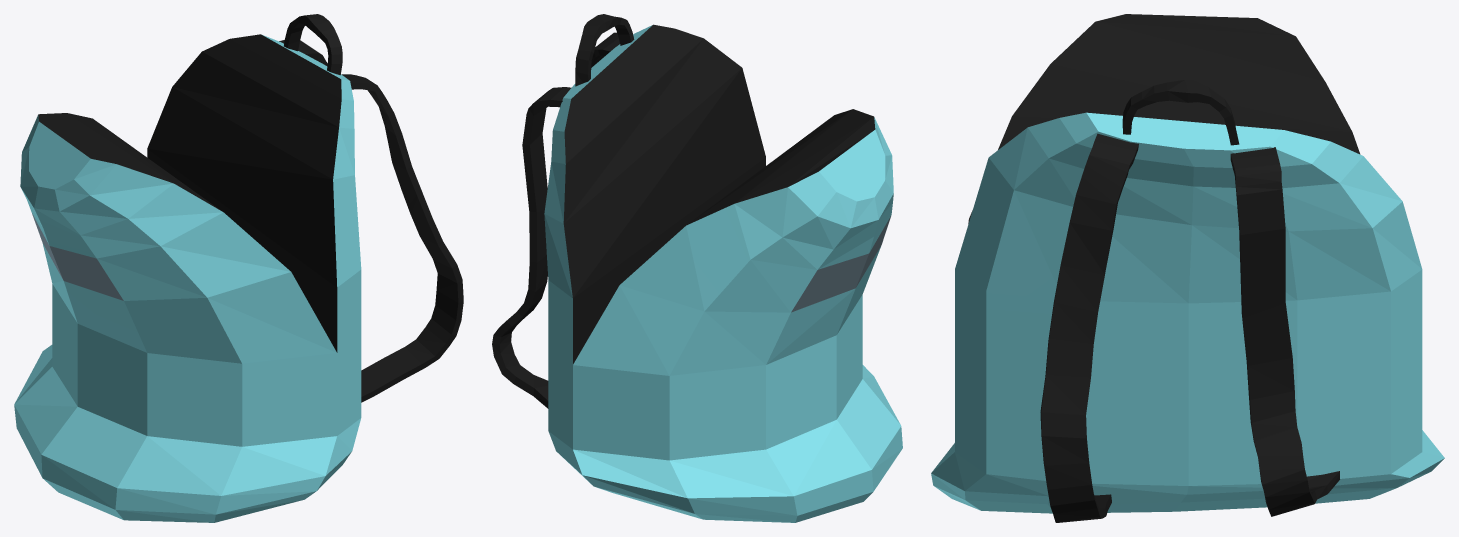
File: Backpack.fbx
The picture shows the model from 3 angles, left to right: view 1: azimuth 30°, elevation 25°; view 2: azimuth 150°, elevation 25°; view 3: azimuth 270°, elevation 25°; orthographic projection. The views are drawn at different scales.
Visible parts, largest first — view 1: group553017598, group118195085, group364152382; view 2: group553017598, group368265898, group364152382; view 3: group553017598, group118195085, group368265898, group364152382.
Part boxes in pixels (x1,y1,x2,y2): group553017598: [14, 34, 361, 522]; group118195085: [341, 74, 463, 402]; group364152382: [284, 14, 342, 75]; group553017598: [544, 24, 902, 522]; group368265898: [492, 87, 571, 408]; group364152382: [575, 14, 634, 86]; group553017598: [931, 14, 1444, 513]; group118195085: [1040, 133, 1138, 522]; group368265898: [1230, 147, 1339, 516]; group364152382: [1122, 80, 1239, 145].
Bounding box in the file's own units: 65.22 × 69.34 × 63.76.
